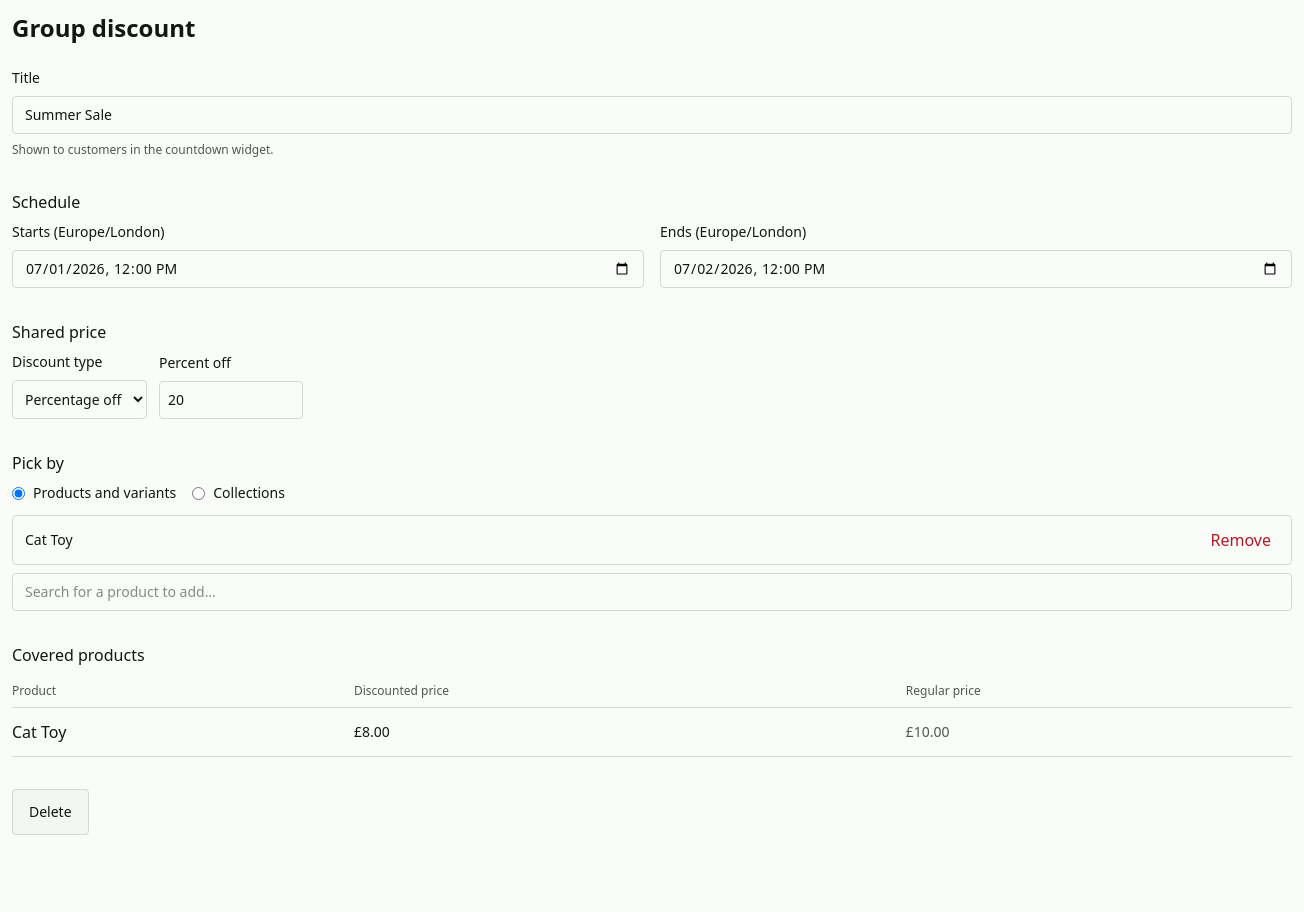
Test: GroupDiscountEditor — shared price › shows the reload message when the request itself is rejected
Select "Fixed price" in the dropdown labelled "Discount type": (80, 400) 12,380 -> 147,419
Wait 10 ms
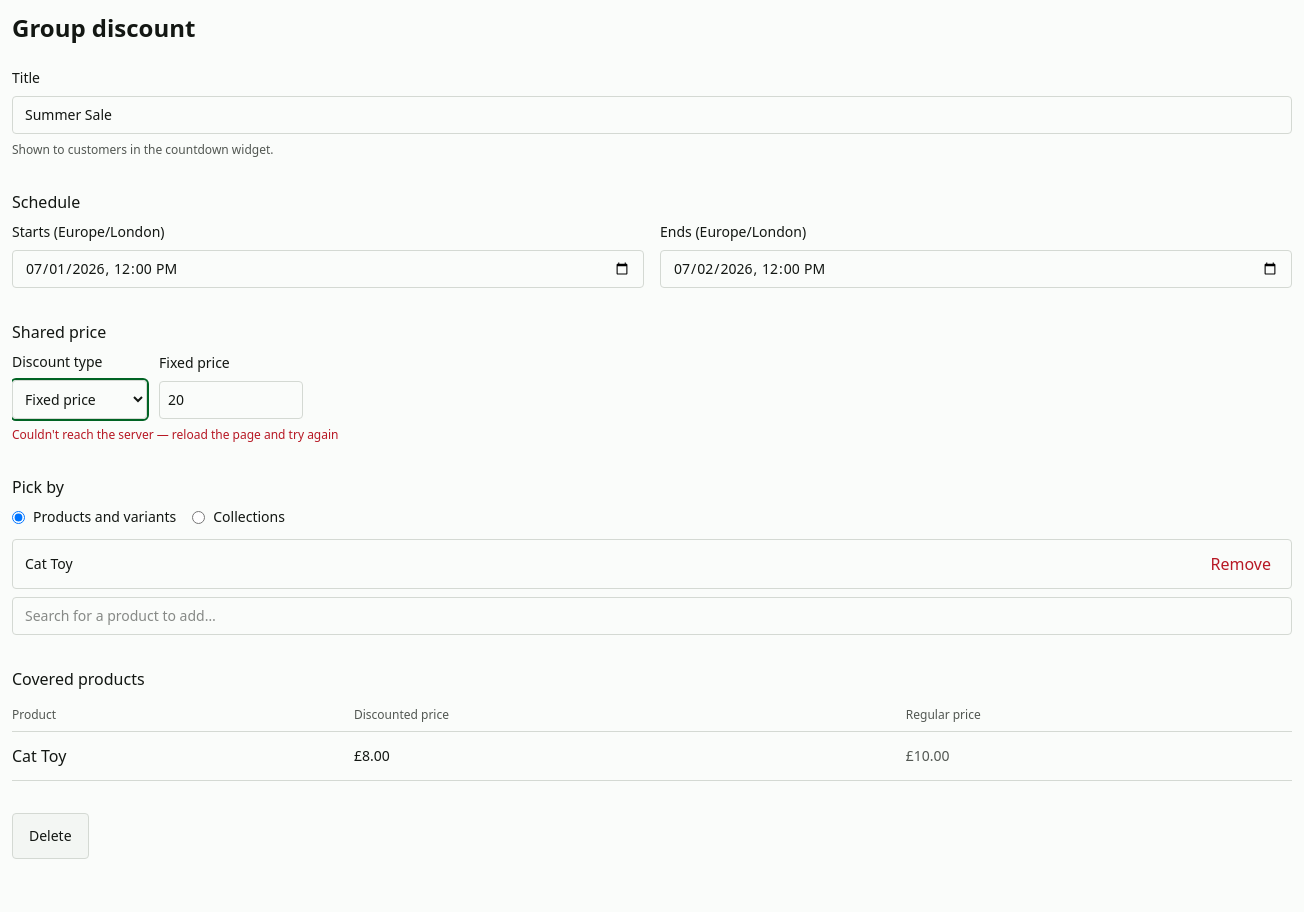
expect the message reads "Couldn't reach the server — reload the page and try again": met, box 12,426 -> 338,443
